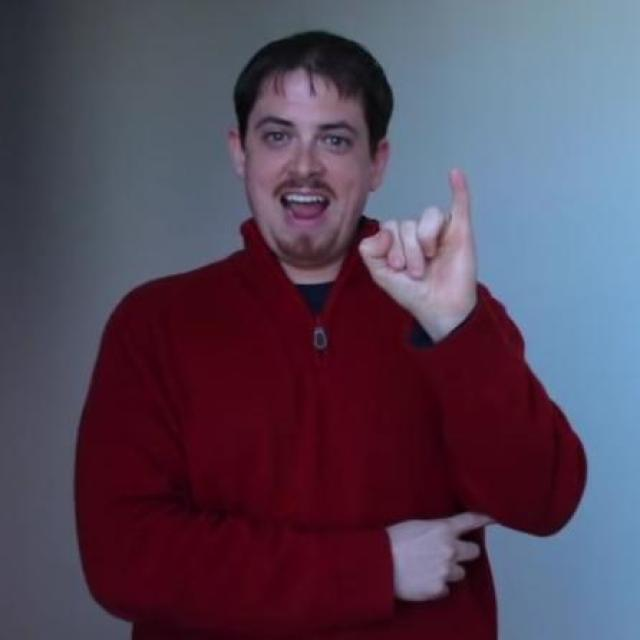I: (352, 166, 485, 315)
